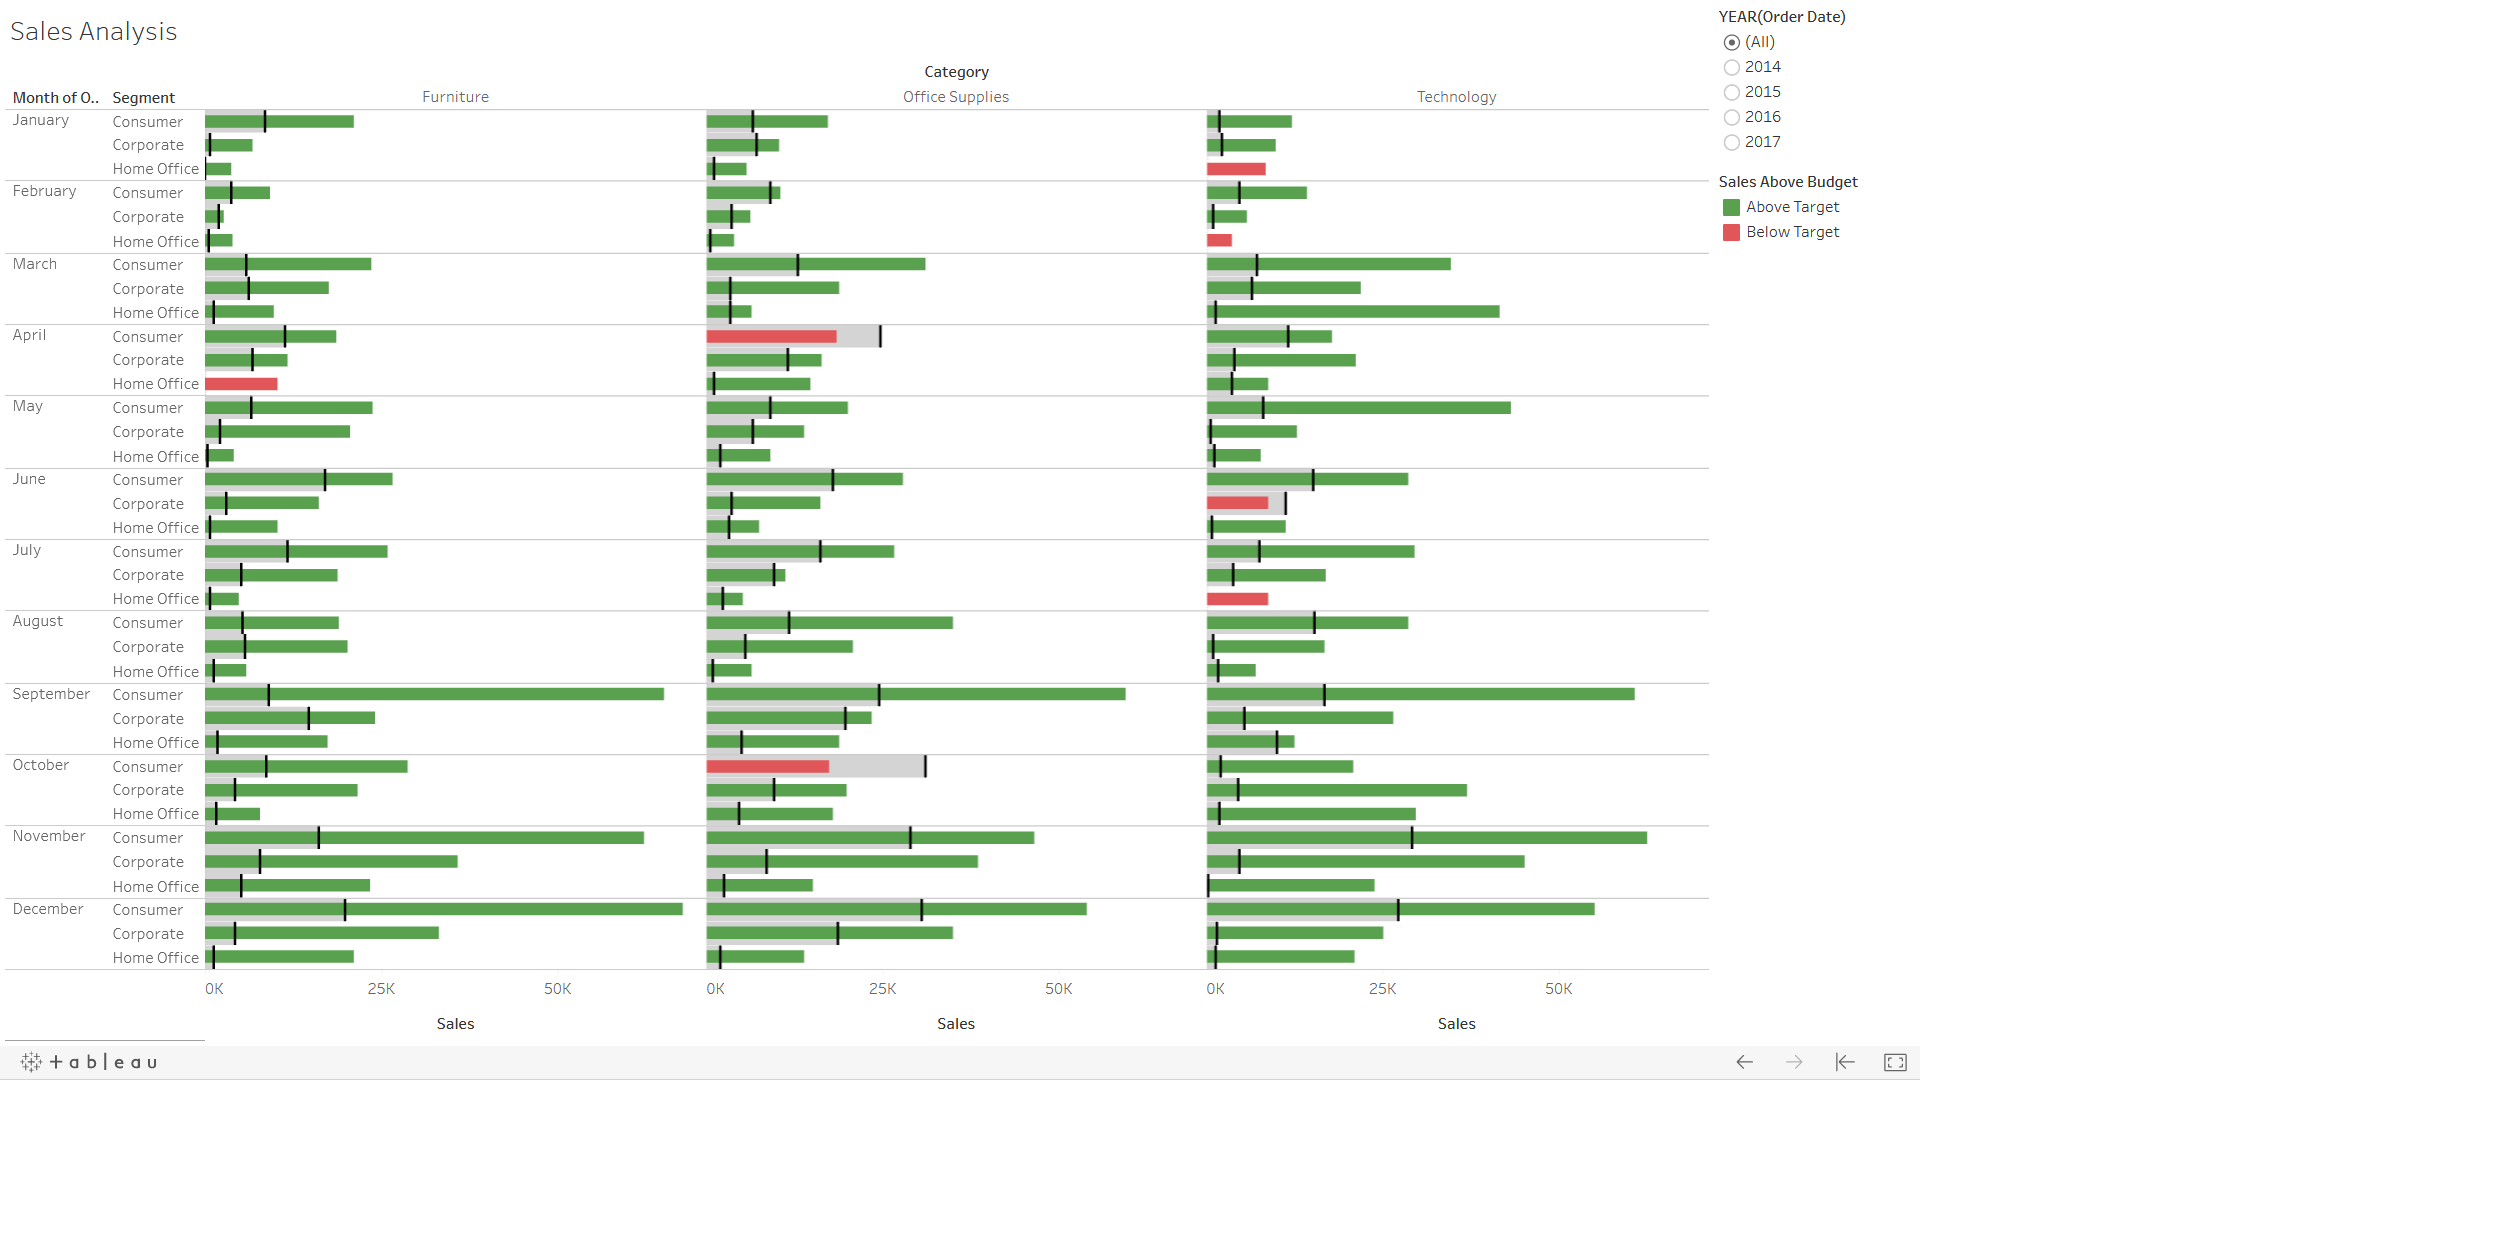

The dashboard page shown, as its layout file describes it:
{"tool":"tableau","page":{"name":"Sales Target Performance DB","canvas":[1000,1000],"units":"permille","ordinal":0},"visuals":[{"type":"title","box":[4.8,9.3,893.8,60.4]},{"type":"filter","title":"Sales Analysis","param":"[federated.1gwg7ei0ynpcaq12tin9j1vdr3bx].[yr:Order Date:ok]","box":[898.7,9.3,96.5,175.4]},{"type":"worksheet","title":"Sales Analysis","mark":"Automatic","rows":["Order Date","Segment"],"cols":["Category","Sales"],"box":[4.8,69.7,893.8,921]},{"type":"legend","title":"Sales Analysis","param":"[federated.1gwg7ei0ynpcaq12tin9j1vdr3bx].[usr:Calculation_2036471471599190016:nk","box":[898.7,184.7,96.5,83.6]}]}

Visuals, with their boxes on the dashboard's canvas, which has no fixed pixel size, in thousandths of its width and height (x1, y1, x2, y2). These are canvas units, not pixel positions in the 2500x1250 screenshot, which may show the page scaled, cropped or inside an application window:
title: {"left": 5, "top": 9, "right": 899, "bottom": 70}
"Sales Analysis" filter: {"left": 899, "top": 9, "right": 995, "bottom": 185}
"Sales Analysis" worksheet: {"left": 5, "top": 70, "right": 899, "bottom": 991}
"Sales Analysis" legend: {"left": 899, "top": 185, "right": 995, "bottom": 268}
